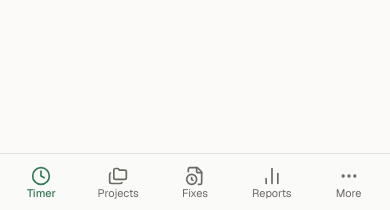
Test case: MobileTabBar › keeps sign out reachable, since the header's is desktop-only
The image size is (390, 210).
Step 1. Click the button "More" → (349, 182), box [311, 154, 386, 209]
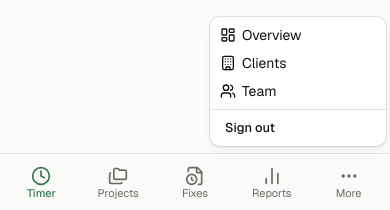
Expected: the button "Sign out" is shown, [214, 114, 382, 142]
